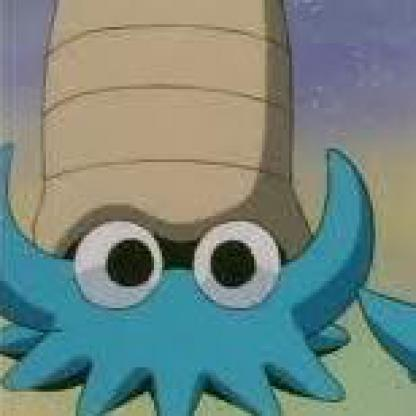Omanyte: (1, 1, 373, 410)
